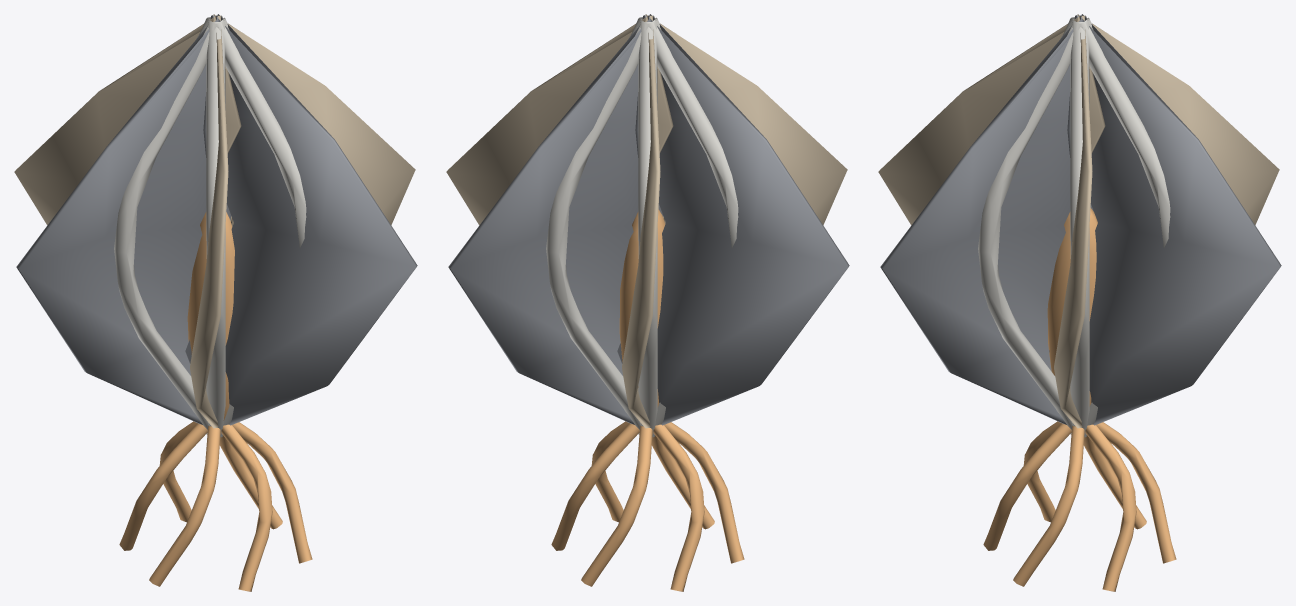
The model's file is bio_lantern_sail_09_far.glb.
The picture shows the model from 3 angles, left to right: view 1: azimuth 30°, elevation 25°; view 2: azimuth 150°, elevation 25°; view 3: azimuth 270°, elevation 25°; orthographic projection.
Parts seen in each view (by area): view 1: Ribbed sensory membrane.005, Ribbed sensory membrane.003, Ribbed sensory membrane.002, Ribbed sensory membrane, Membrane leading seam.003, Ribbed sensory membrane.004, Membrane leading seam.004, Membrane leading seam.005, Trailing electroreceptor.004, Buoyancy spindle, Trailing electroreceptor.003, Trailing electroreceptor.005 (+3 smaller); view 2: Ribbed sensory membrane.003, Ribbed sensory membrane.001, Ribbed sensory membrane, Ribbed sensory membrane.004, Membrane leading seam.001, Ribbed sensory membrane.002, Membrane leading seam.002, Membrane leading seam.003, Trailing electroreceptor.002, Trailing electroreceptor.001, Buoyancy spindle, Trailing electroreceptor.003 (+3 smaller); view 3: Ribbed sensory membrane.001, Ribbed sensory membrane.005, Ribbed sensory membrane.004, Ribbed sensory membrane.002, Membrane leading seam.005, Ribbed sensory membrane, Membrane leading seam, Membrane leading seam.001, Buoyancy spindle, Trailing electroreceptor, Trailing electroreceptor.005, Trailing electroreceptor.001 (+3 smaller).
Part boxes in pixels (left/top/right/bottom): Ribbed sensory membrane.005: left=185, top=14, right=417, bottom=425; Ribbed sensory membrane.003: left=16, top=16, right=227, bottom=424; Ribbed sensory membrane.002: left=14, top=16, right=241, bottom=225; Ribbed sensory membrane: left=213, top=14, right=415, bottom=226; Membrane leading seam.003: left=114, top=18, right=217, bottom=434; Ribbed sensory membrane.004: left=190, top=15, right=228, bottom=428; Membrane leading seam.004: left=206, top=22, right=225, bottom=437; Membrane leading seam.005: left=216, top=17, right=306, bottom=436; Trailing electroreceptor.004: left=221, top=424, right=272, bottom=591; Buoyancy spindle: left=187, top=212, right=234, bottom=420; Trailing electroreceptor.003: left=149, top=426, right=220, bottom=586; Trailing electroreceptor.005: left=232, top=422, right=312, bottom=563; Ribbed sensory membrane.003: left=617, top=14, right=849, bottom=425; Ribbed sensory membrane.001: left=448, top=16, right=659, bottom=424; Ribbed sensory membrane: left=446, top=16, right=673, bottom=225; Ribbed sensory membrane.004: left=645, top=14, right=847, bottom=225; Membrane leading seam.001: left=546, top=18, right=649, bottom=434; Ribbed sensory membrane.002: left=622, top=15, right=660, bottom=428; Membrane leading seam.002: left=638, top=22, right=657, bottom=437; Membrane leading seam.003: left=648, top=17, right=738, bottom=436; Trailing electroreceptor.002: left=653, top=424, right=704, bottom=591; Trailing electroreceptor.001: left=581, top=426, right=652, bottom=586; Buoyancy spindle: left=619, top=209, right=665, bottom=407; Trailing electroreceptor.003: left=664, top=422, right=744, bottom=563; Ribbed sensory membrane.001: left=1049, top=14, right=1281, bottom=425; Ribbed sensory membrane.005: left=880, top=16, right=1091, bottom=424; Ribbed sensory membrane.004: left=878, top=16, right=1105, bottom=225; Ribbed sensory membrane.002: left=1077, top=14, right=1279, bottom=225; Membrane leading seam.005: left=978, top=18, right=1081, bottom=434; Ribbed sensory membrane: left=1054, top=15, right=1092, bottom=428; Membrane leading seam: left=1070, top=22, right=1089, bottom=437; Membrane leading seam.001: left=1080, top=17, right=1170, bottom=436; Buoyancy spindle: left=1047, top=208, right=1097, bottom=406; Trailing electroreceptor: left=1085, top=424, right=1136, bottom=591; Trailing electroreceptor.005: left=1013, top=426, right=1084, bottom=586; Trailing electroreceptor.001: left=1096, top=422, right=1176, bottom=563.
Size of the model in its own units: 2.38 by 3.09 by 2.09.
